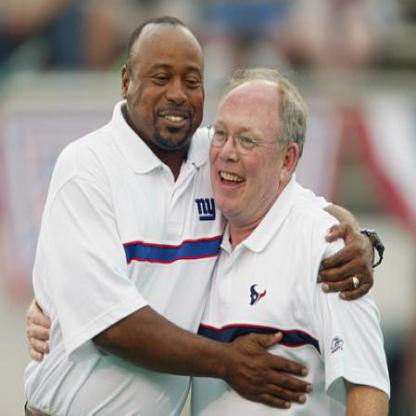face: (205, 75, 283, 219), (128, 20, 208, 152)
